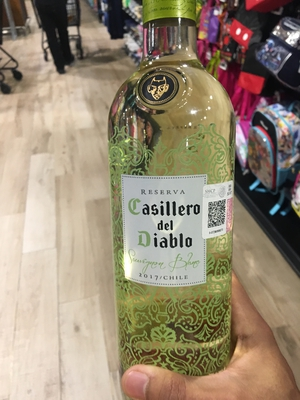casillero del diablo sauvignon blanc: (100, 14, 249, 392)
